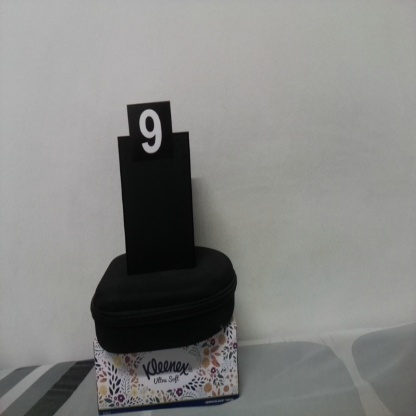id_9: (128, 106, 173, 174)
